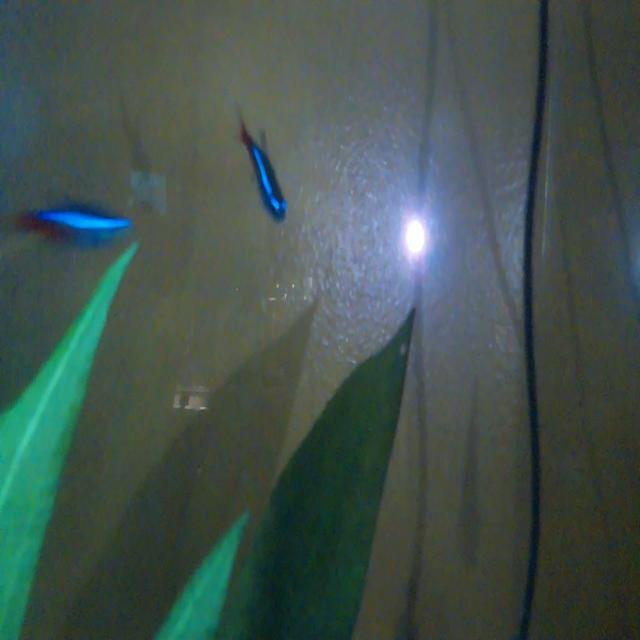fish: (224, 107, 297, 240), (4, 186, 140, 253)
